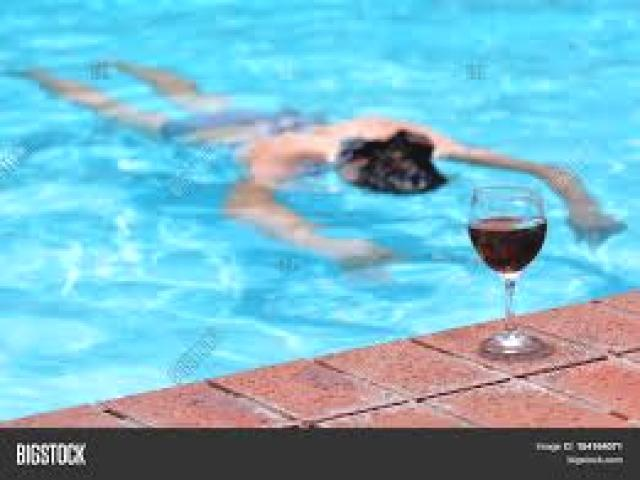drowning: (14, 43, 627, 264)
